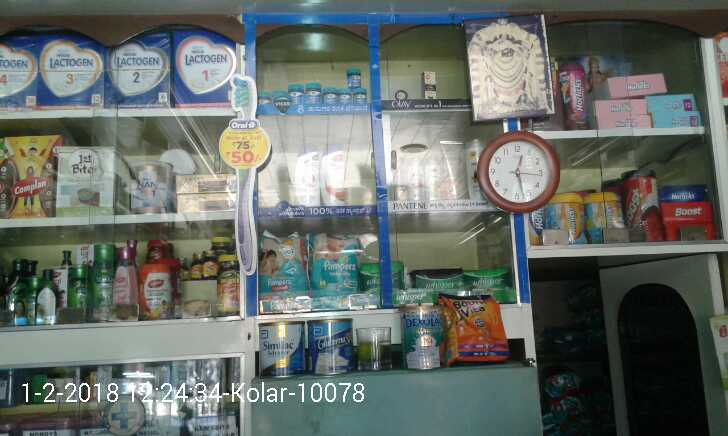beauty: (319, 143, 353, 205), (295, 149, 321, 205), (468, 138, 489, 200), (422, 68, 437, 102)
pharmacy: (259, 230, 307, 310), (312, 230, 358, 298), (461, 271, 517, 304), (414, 269, 459, 289), (390, 290, 433, 305), (287, 80, 303, 106), (305, 85, 321, 108), (321, 86, 338, 107), (348, 68, 364, 89), (351, 89, 369, 106), (337, 88, 351, 106)
